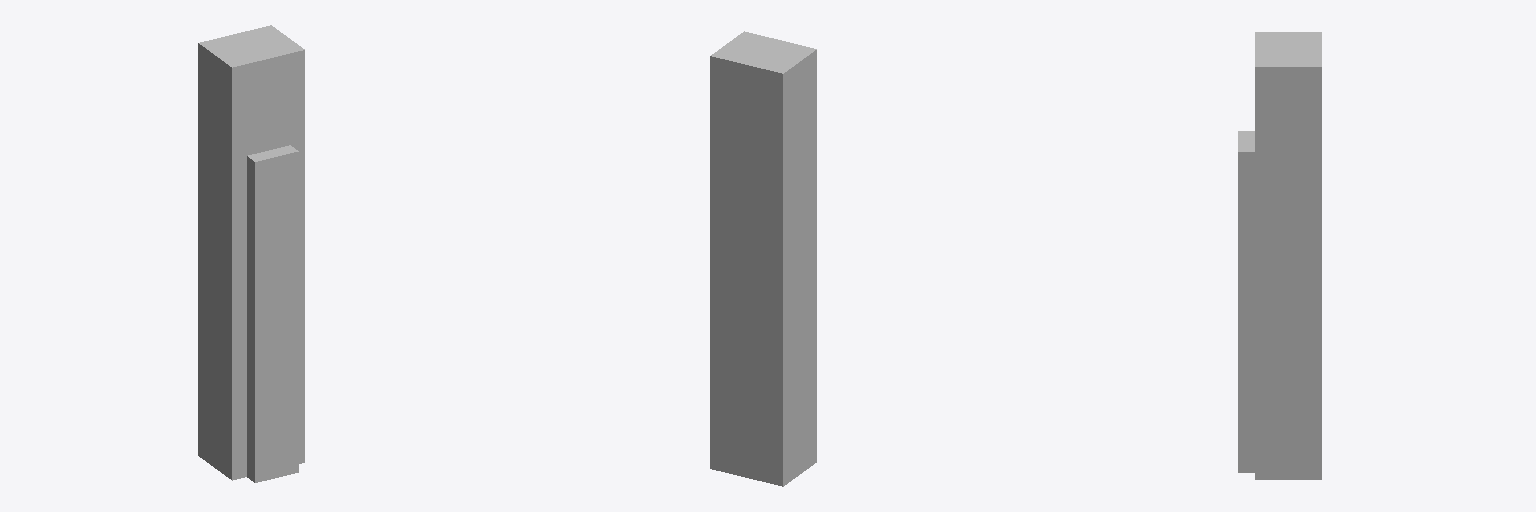
Rendered from Stand.obj.
The picture shows the model from 3 angles: view 1: azimuth 30°, elevation 25°; view 2: azimuth 150°, elevation 25°; view 3: azimuth 270°, elevation 25°; orthographic projection.
Bounding box in the file's own units: 5 × 27 × 5.